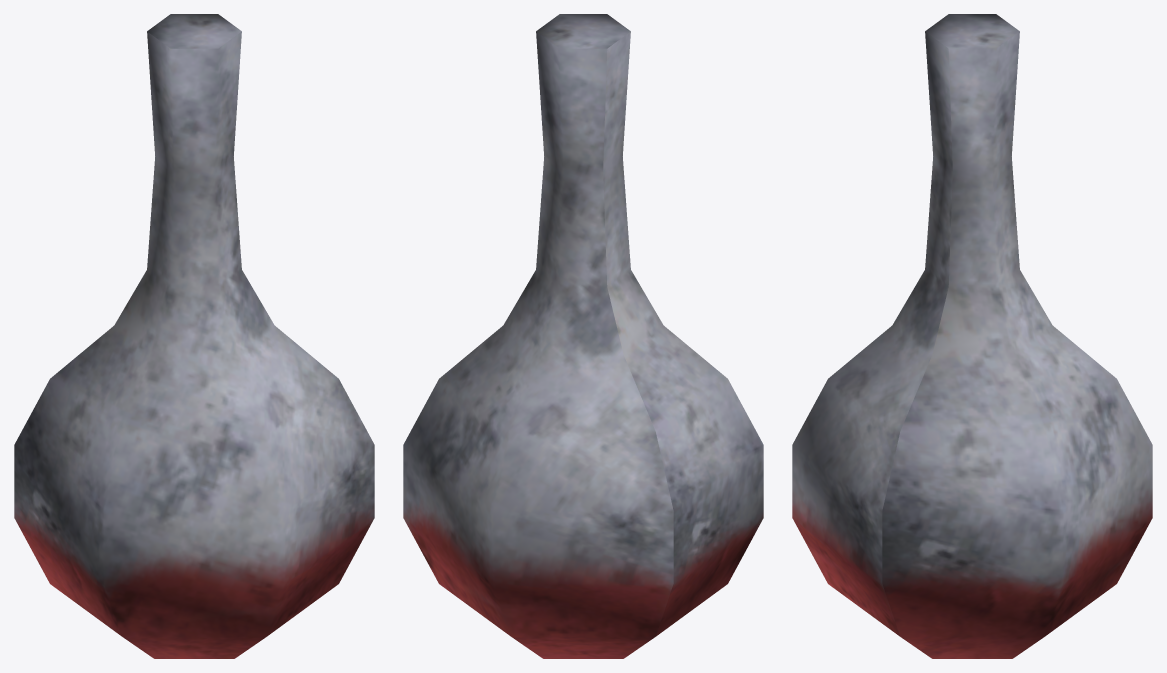
Rendered from acid_machine_bottle03.dae.
3 renders of one model, left to right at view 1: azimuth 30°, elevation 25°; view 2: azimuth 150°, elevation 25°; view 3: azimuth 270°, elevation 25°, orthographic.
Visible parts, largest first — view 1: acid_machine_bottle03; view 2: acid_machine_bottle03; view 3: acid_machine_bottle03.
Part boxes in pixels (left/top/right/bottom): acid_machine_bottle03: left=14, top=14, right=374, bottom=658; acid_machine_bottle03: left=403, top=14, right=763, bottom=658; acid_machine_bottle03: left=792, top=14, right=1152, bottom=658.
Size of the model in its own units: 0.2038 by 0.2353 by 0.4413.
1 material, 1 textured.
